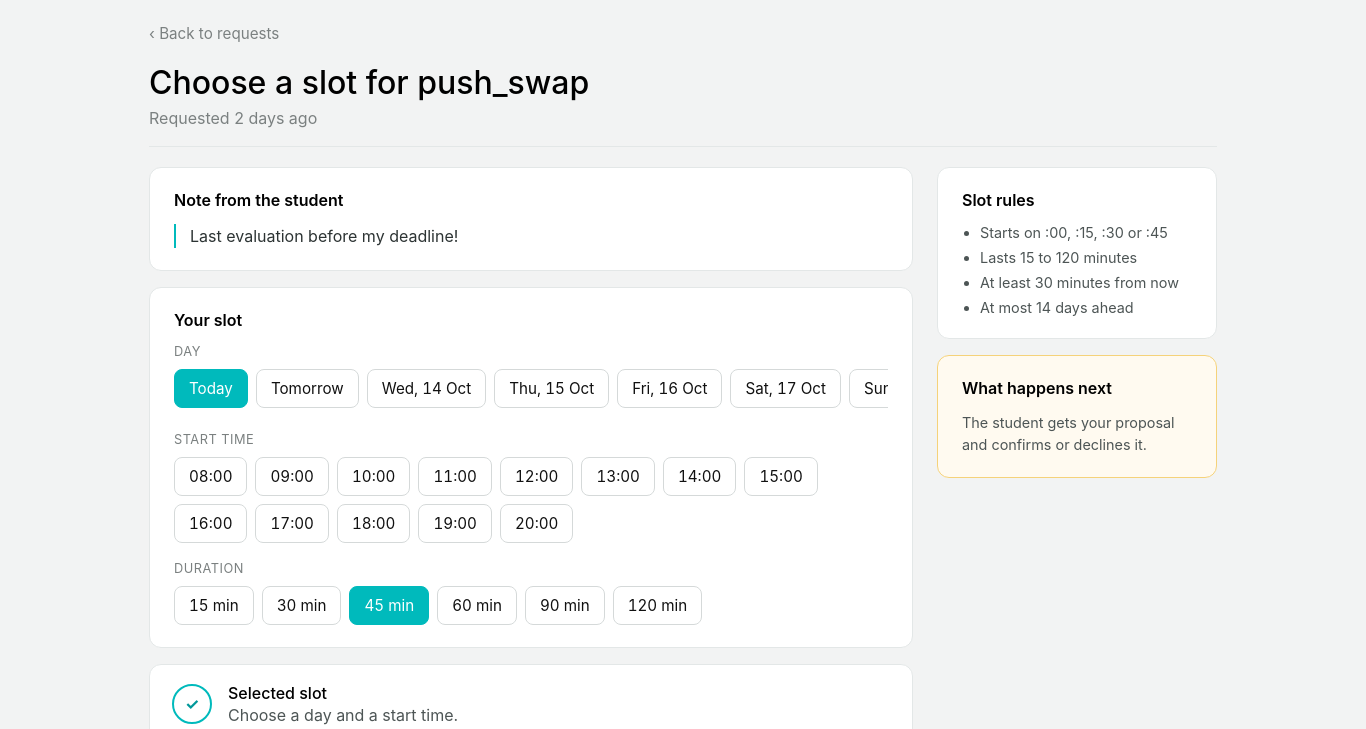
Test: PickSlotPage › explains when the Hitchhiker already has an evaluation at that time
Check: the heading "Choose a slot for push_swap" is shown, box [149,63,589,102]
Click the button "Tomorrow": (307, 388) [256,369,359,408]
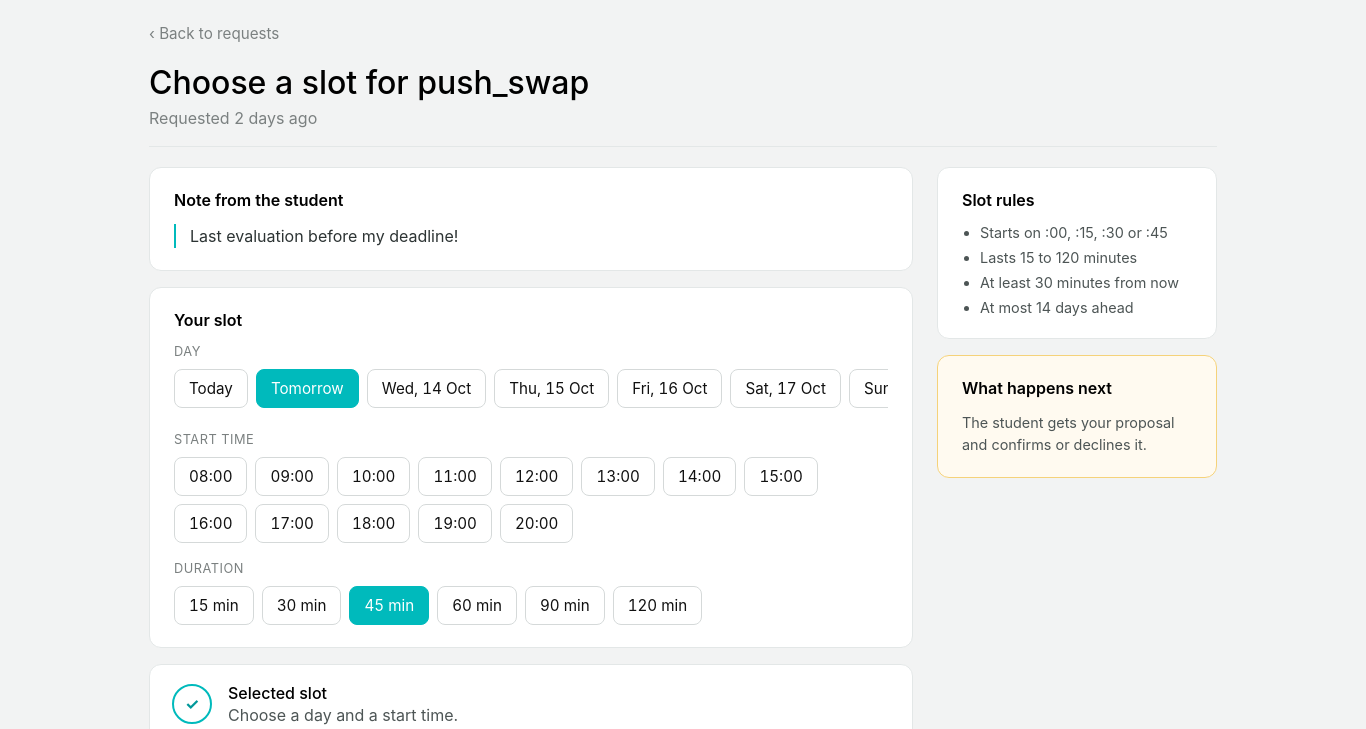
Click the button "10:00": (374, 476) [337,457,410,496]
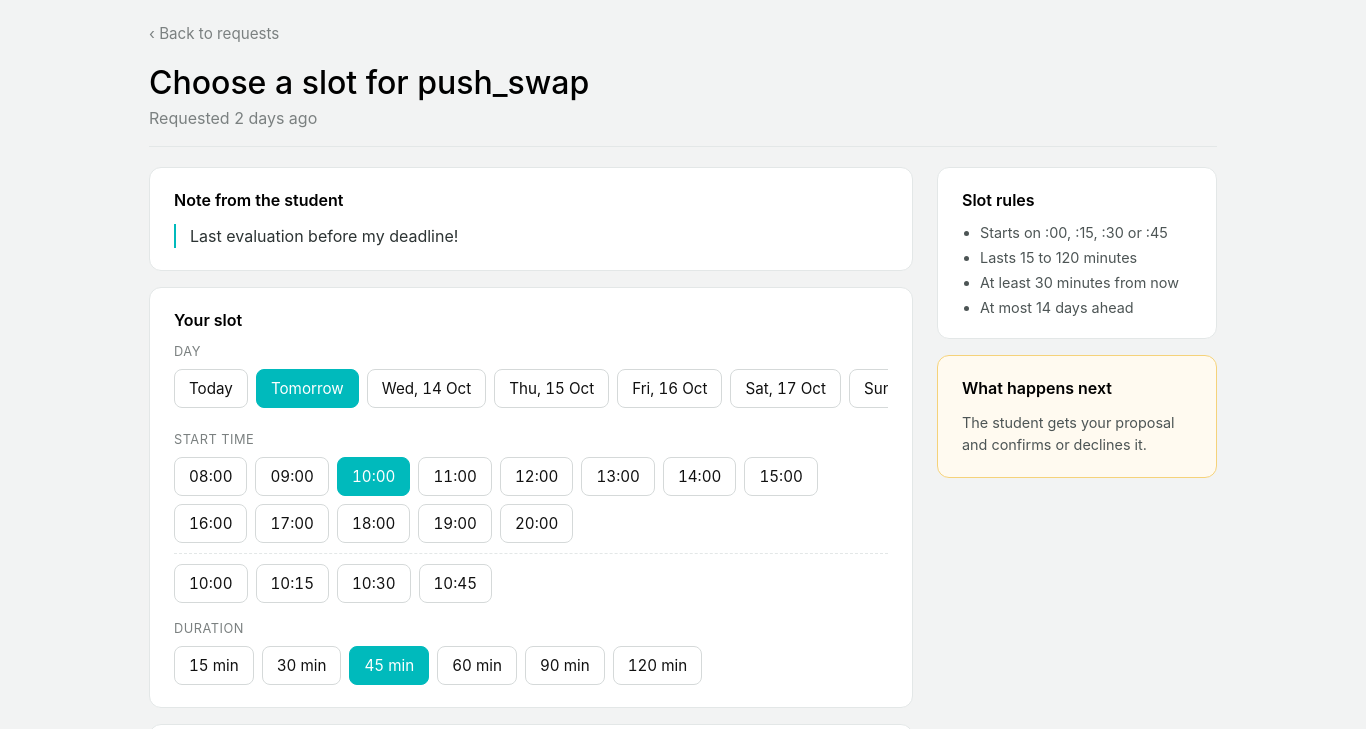
Click the button "10:15": (292, 584) [256,564,329,603]
(page scrolled)
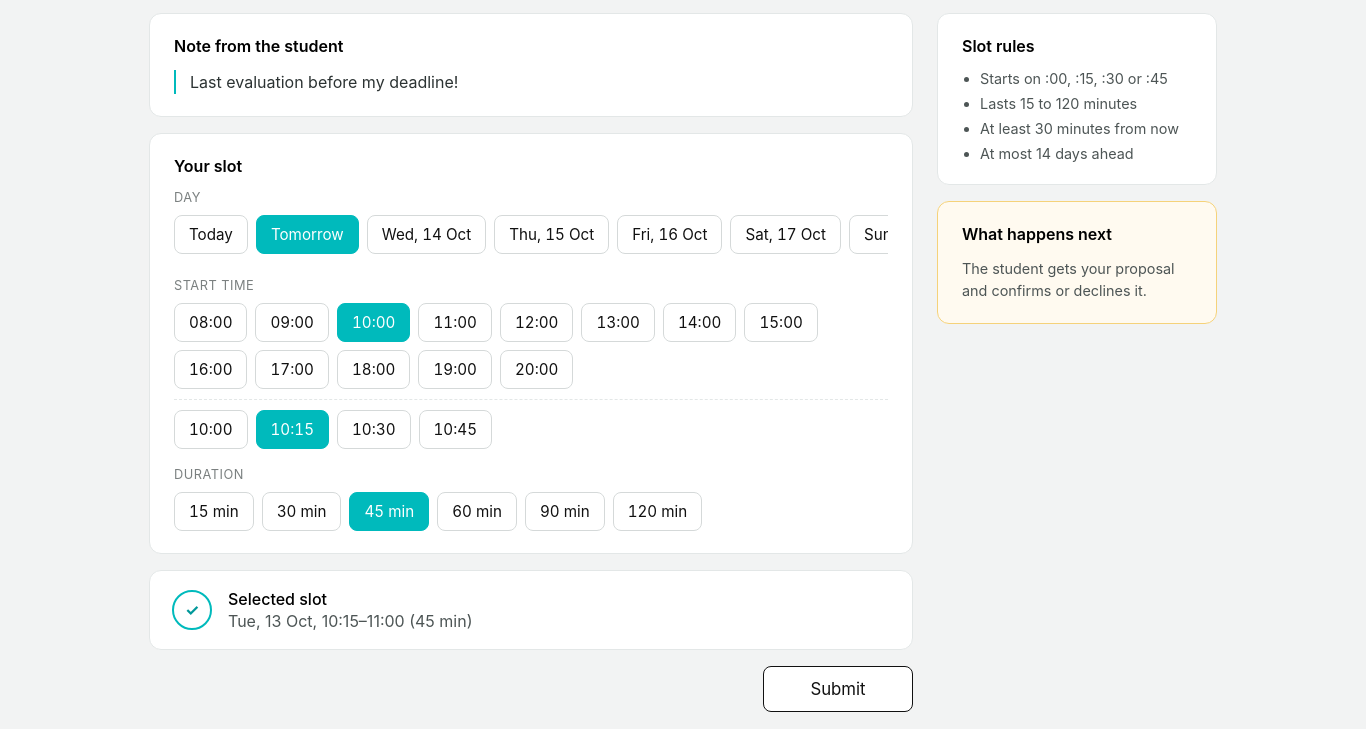
Click the button "Submit": (838, 689) [763,666,913,712]
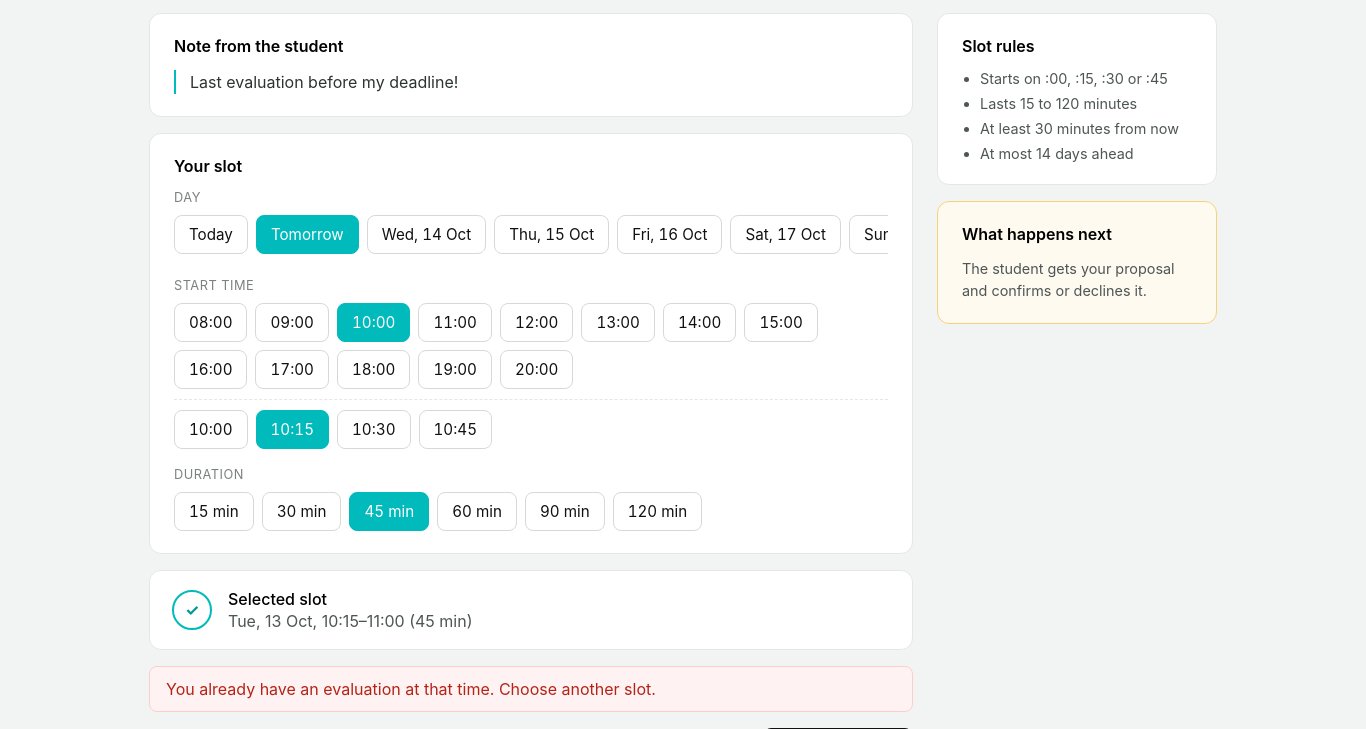
Check: the message reads "You already have an evaluation at that time. Choose another slot.", box [166,679,656,699]
